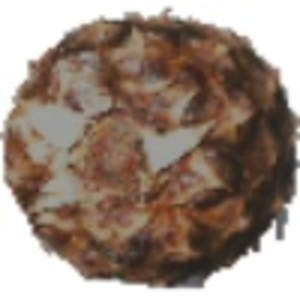abacaxi: (5, 14, 294, 284)
